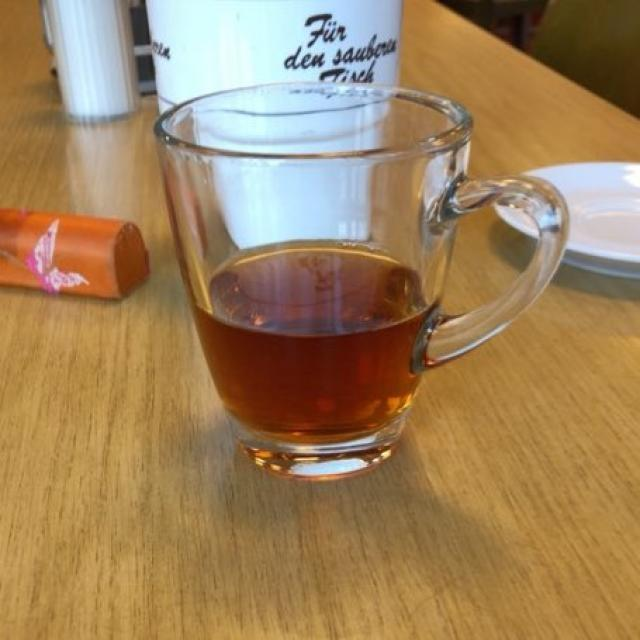tea: (200, 248, 428, 434)
